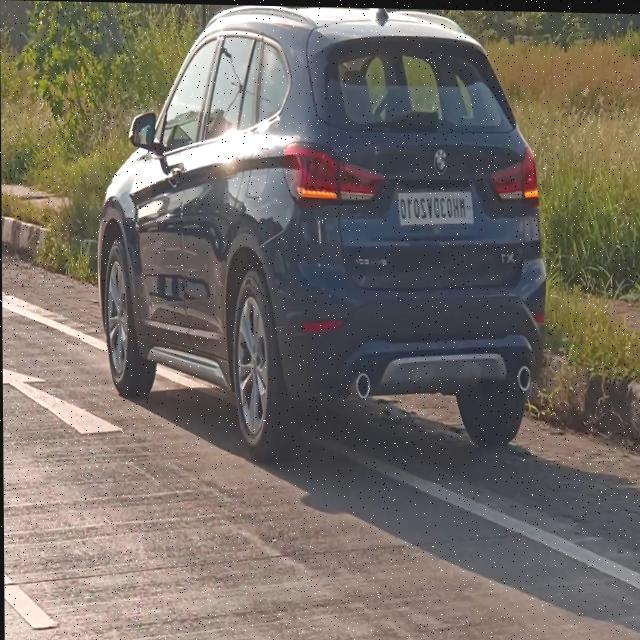plate: (397, 184, 474, 230)
